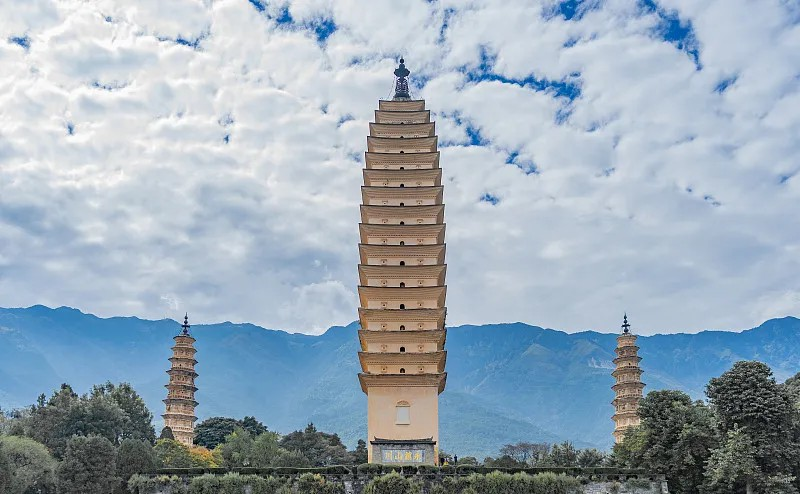ThreePagoda: (357, 54, 448, 465)
